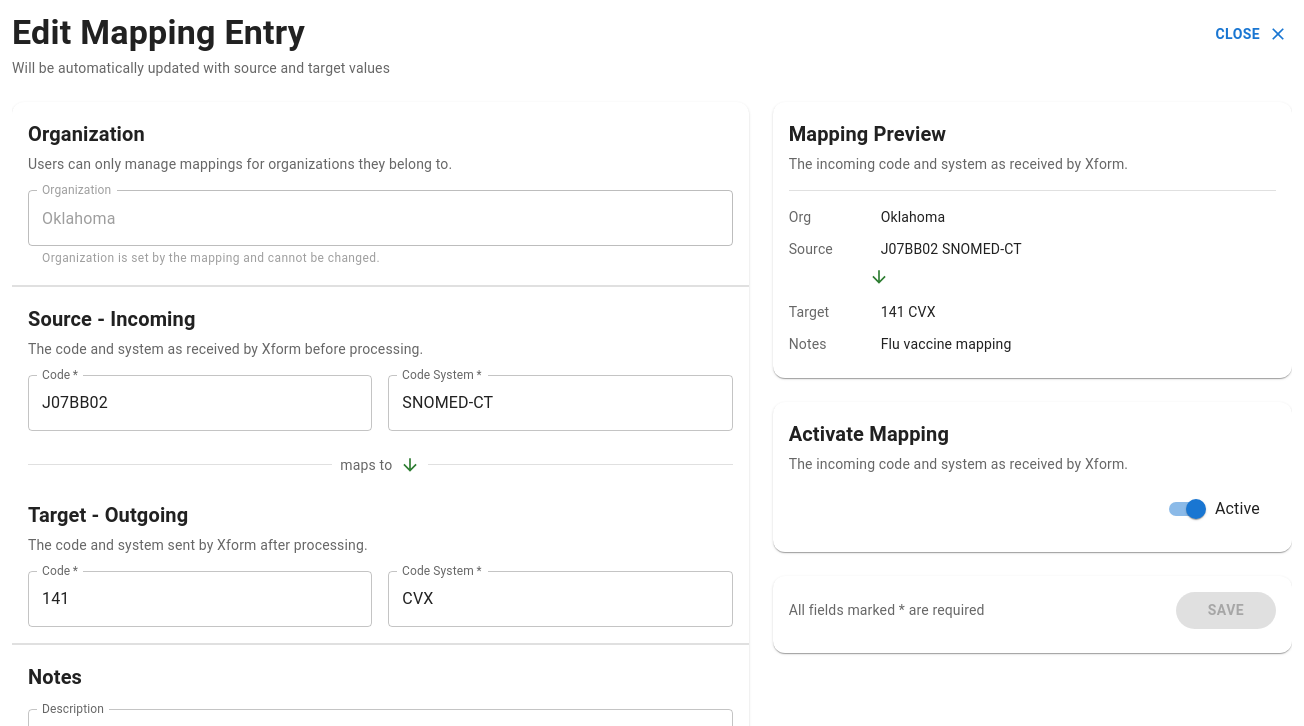
Test: CreateMapping - Edit mode › SAVE button is enabled after a change
Step 1. Replace the text in the field showing "J07BB02" below "Source - Incoming" with "NEWCODE" → (200, 403), box x1=28 y1=375 x2=372 y2=431
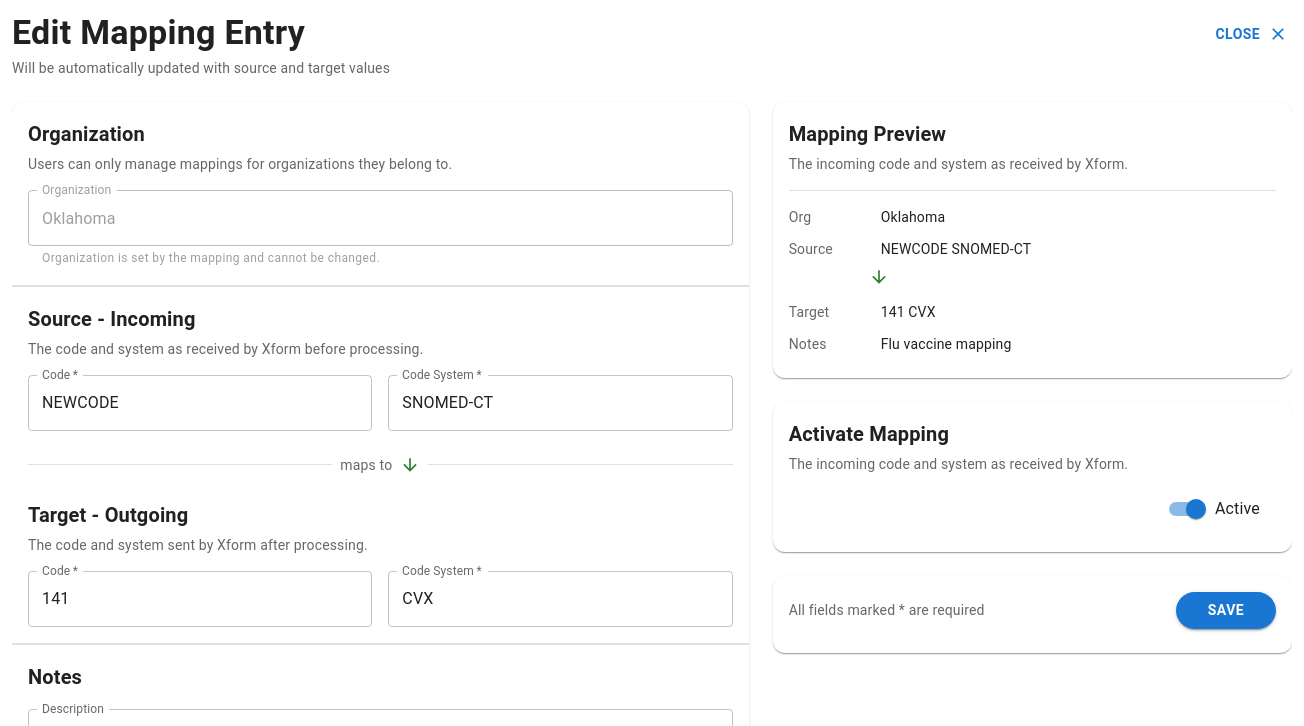
Now the button "SAVE" is enabled, box x1=1176 y1=592 x2=1276 y2=629
